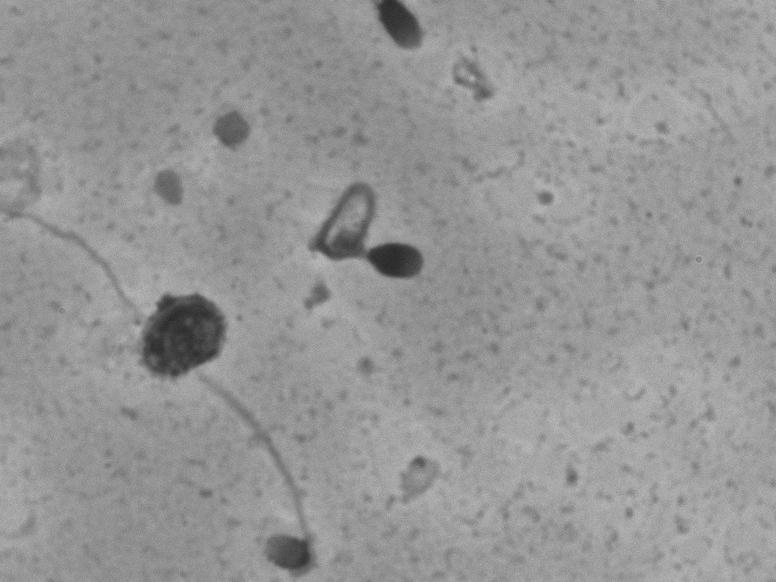Abnormal: (183, 387, 362, 573), (260, 155, 458, 304)
